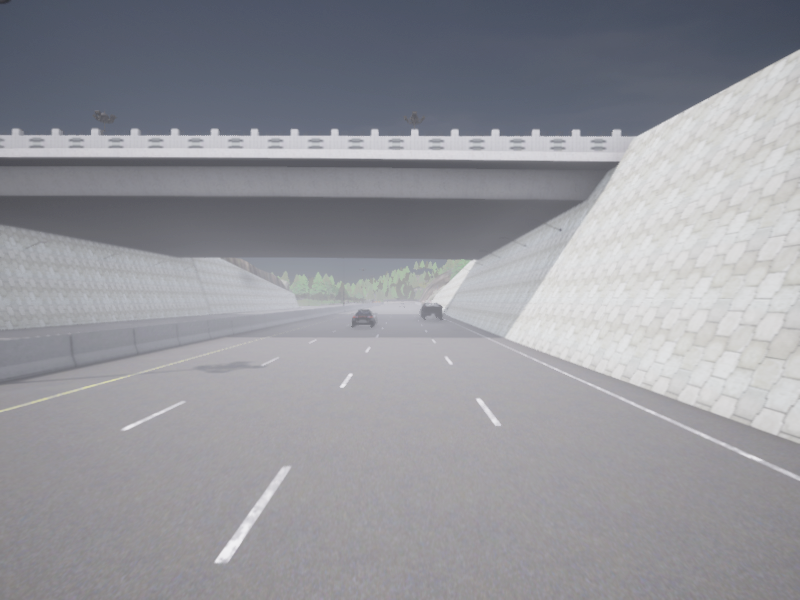vehicle: (352, 309, 376, 326), (420, 302, 442, 319), (400, 302, 404, 307)
